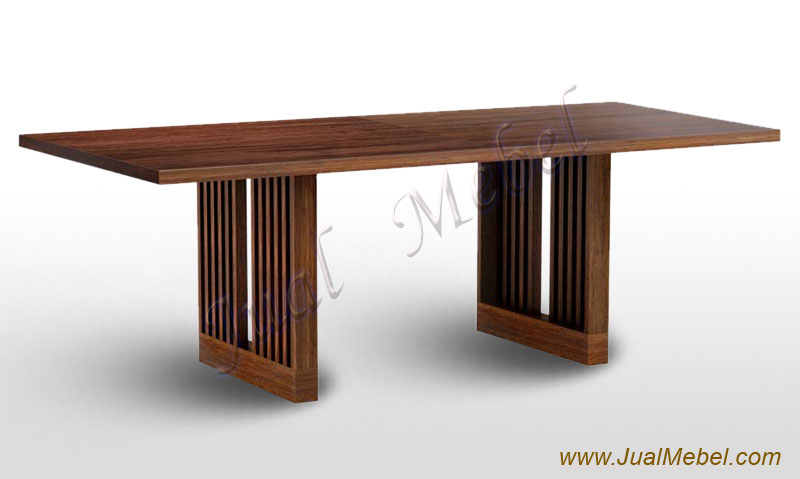Carving Table: (27, 112, 776, 387)
